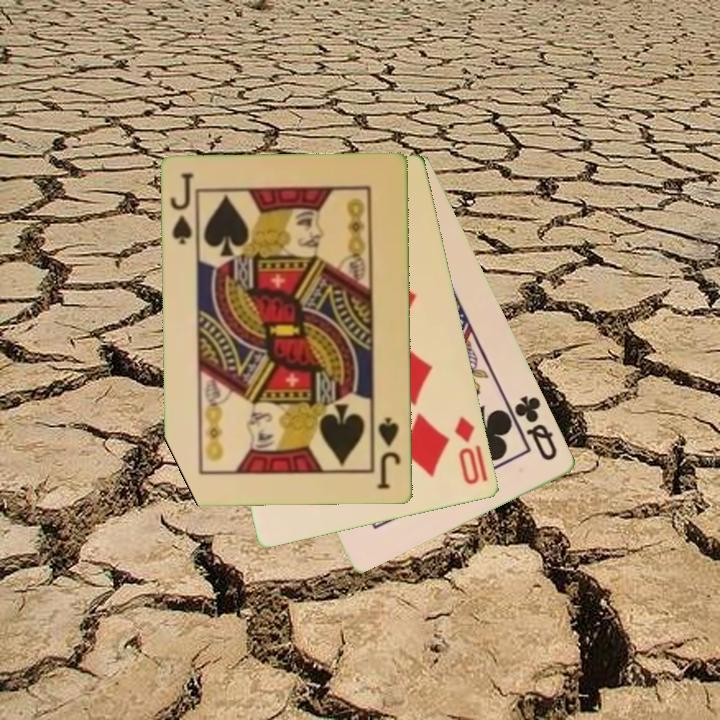10d: (451, 413, 483, 488)
Js: (374, 414, 404, 493), (167, 170, 197, 247)
Qc: (511, 392, 561, 464)
